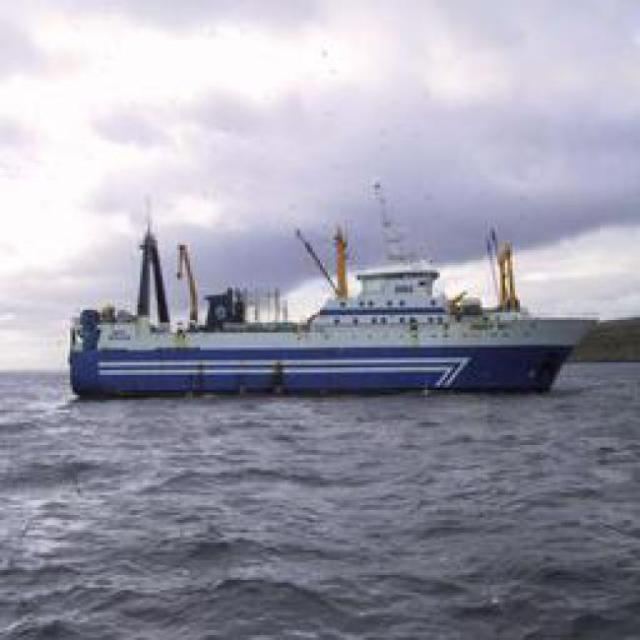boat: (41, 274, 608, 398)
